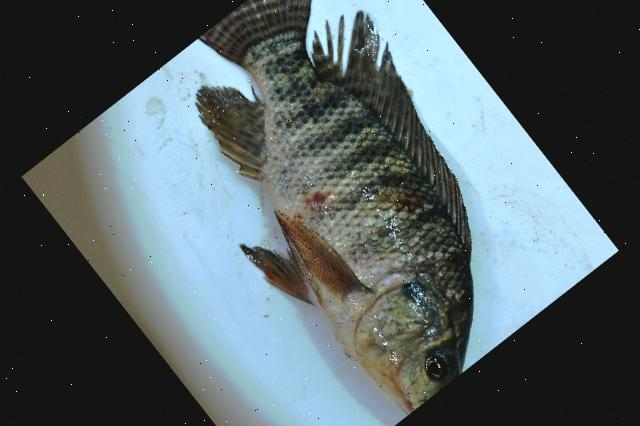Columnaris Disease: (196, 0, 473, 415)
